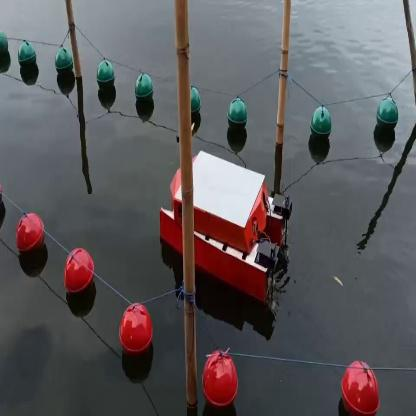green_buoy: (379, 100, 399, 138), (312, 104, 331, 143), (134, 70, 153, 109), (95, 58, 115, 93), (56, 48, 74, 80), (21, 39, 36, 75), (230, 101, 245, 130), (190, 89, 202, 122), (0, 34, 8, 64)
red_buoy: (200, 351, 241, 415), (117, 304, 156, 361), (340, 362, 382, 412), (66, 250, 96, 300), (16, 214, 46, 260)
